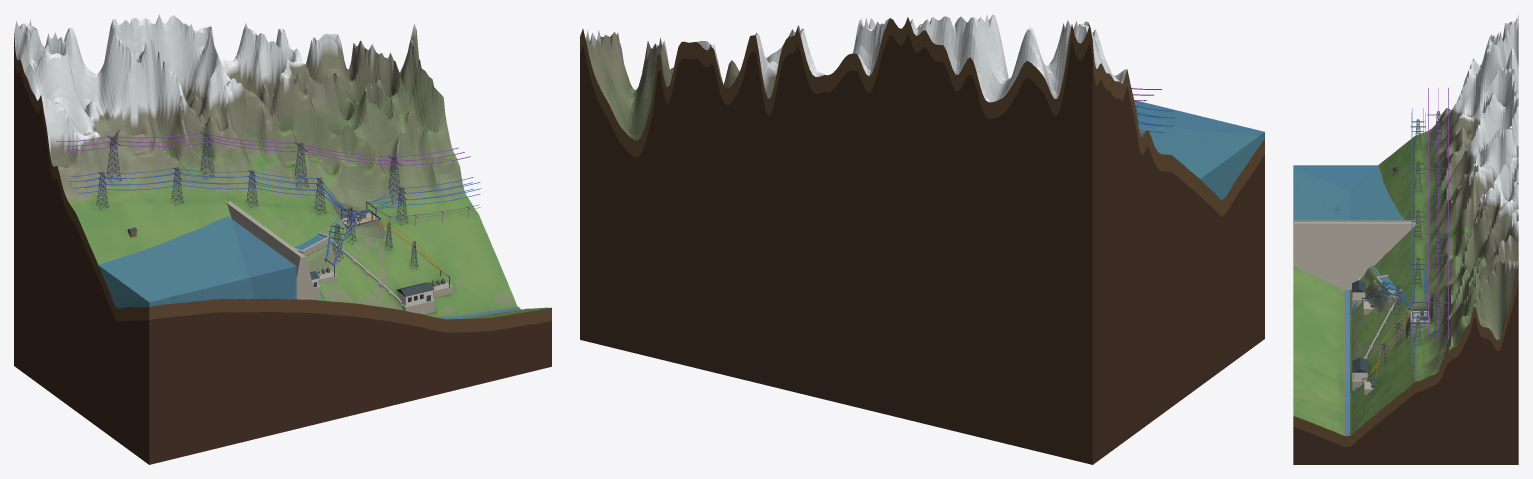
Rendered from site-visit-3d.glb.
The picture shows the model from 3 angles, left to right: view 1: azimuth 30°, elevation 25°; view 2: azimuth 150°, elevation 25°; view 3: azimuth 270°, elevation 25°; orthographic projection. The views are drawn at different scales.
Parts seen in each view (by area): view 1: terrain__canal, skirt, lake_top__res, lake_face__res, dam__res, terrain__res, c400_1.001, c400_0.001, c400_2.001; view 2: skirt, terrain__canal, lake_top__res, lake_face__res; view 3: terrain__canal, skirt, dam__res, lake_top__res, terrain__res, river, c400_0.001, c400_2.001, dam_parapet__res.
Boxes of the visible parts, x1,y1,x2,y2 form: terrain__canal: (14,14,548,319); skirt: (14,33,551,464); lake_top__res: (98,216,296,302); lake_face__res: (98,265,296,308); dam__res: (227,201,316,300); terrain__res: (276,209,332,247); c400_1.001: (62,137,464,160); c400_0.001: (68,141,470,165); c400_2.001: (56,132,458,156); skirt: (580,17,1264,464); terrain__canal: (586,14,1170,154); lake_top__res: (1134,101,1264,178); lake_face__res: (1200,132,1264,199); terrain__canal: (1293,15,1518,435); skirt: (1293,268,1518,464); dam__res: (1294,221,1420,290); lake_top__res: (1293,165,1404,225); terrain__res: (1374,253,1421,300); river: (1345,290,1349,435); c400_0.001: (1428,88,1428,339); c400_2.001: (1448,88,1448,339); dam_parapet__res: (1294,220,1420,221).
Bounding box in the file's own units: 1720 × 1409 × 1000.
